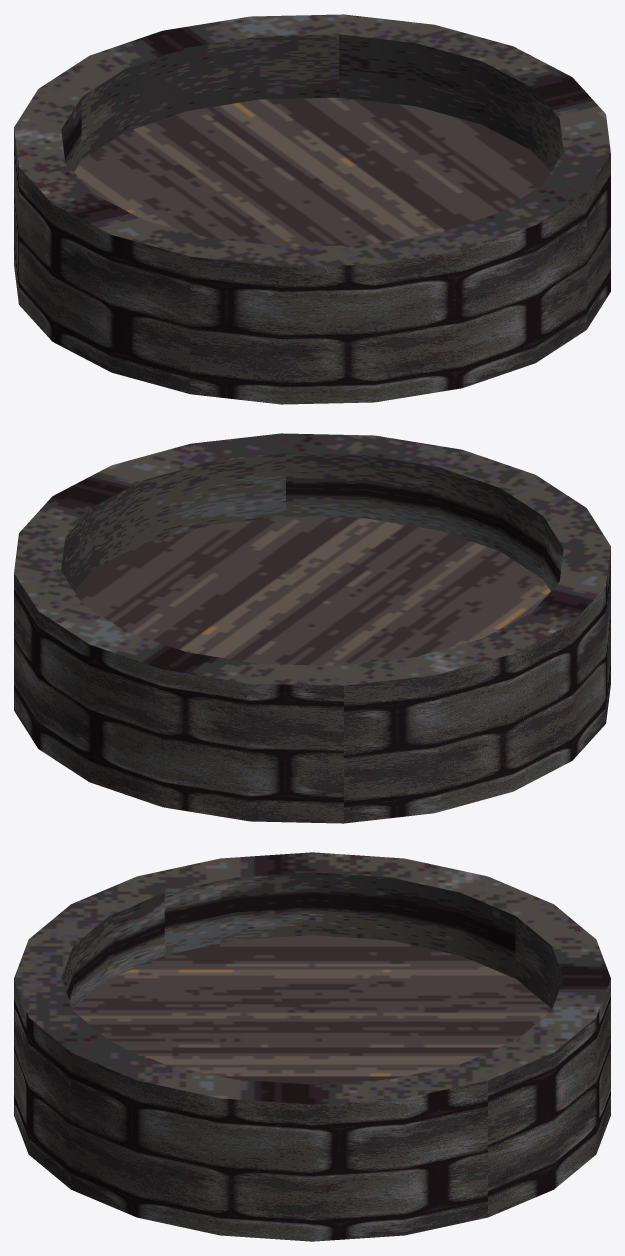
The model's file is tree_base.fbx.
3 views of the same model, one above another, from view 1: azimuth 30°, elevation 25°; view 2: azimuth 150°, elevation 25°; view 3: azimuth 270°, elevation 25° (orthographic).
Visible parts, largest first — view 1: pCylinder1; view 2: pCylinder1; view 3: pCylinder1.
Part boxes in pixels (x1,y1,x2,y2): pCylinder1: (14,14,610,404); pCylinder1: (14,433,610,823); pCylinder1: (14,852,610,1241).
Bounding box in the file's own units: 242 × 61.29 × 242.
